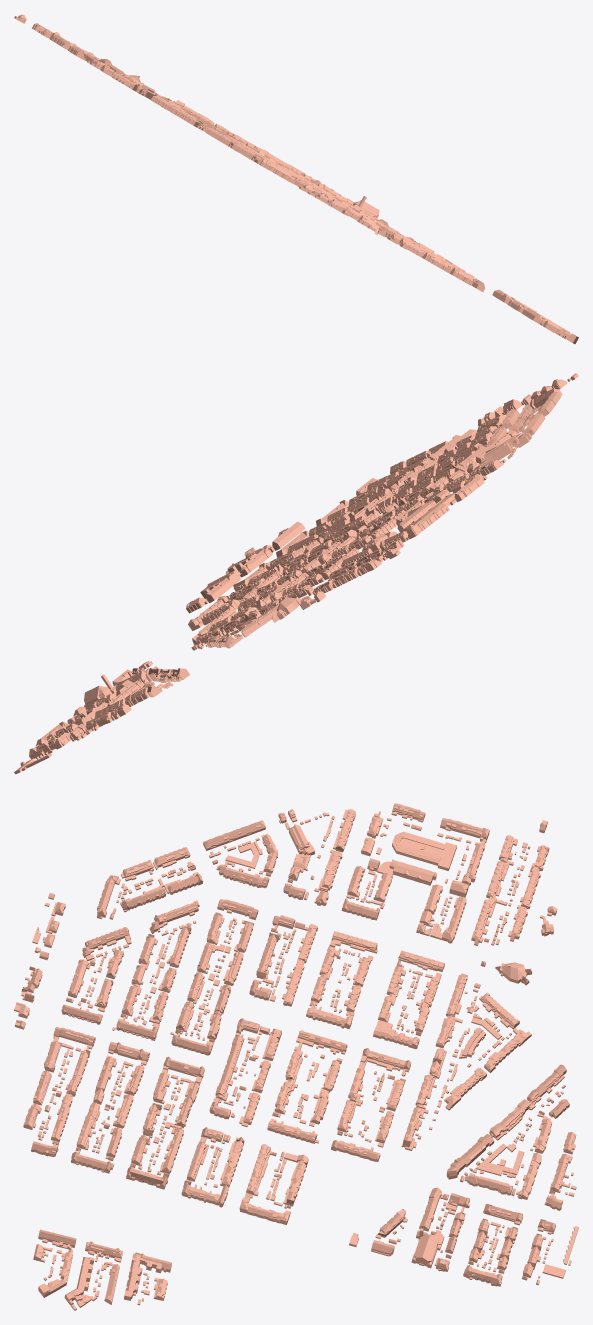
The picture shows the model from 3 angles, top to bottom: view 1: azimuth 30°, elevation 25°; view 2: azimuth 150°, elevation 25°; view 3: azimuth 270°, elevation 25°; orthographic projection. The views are drawn at different scales.
Size of the model in its own units: 520 by 382 by 626.
